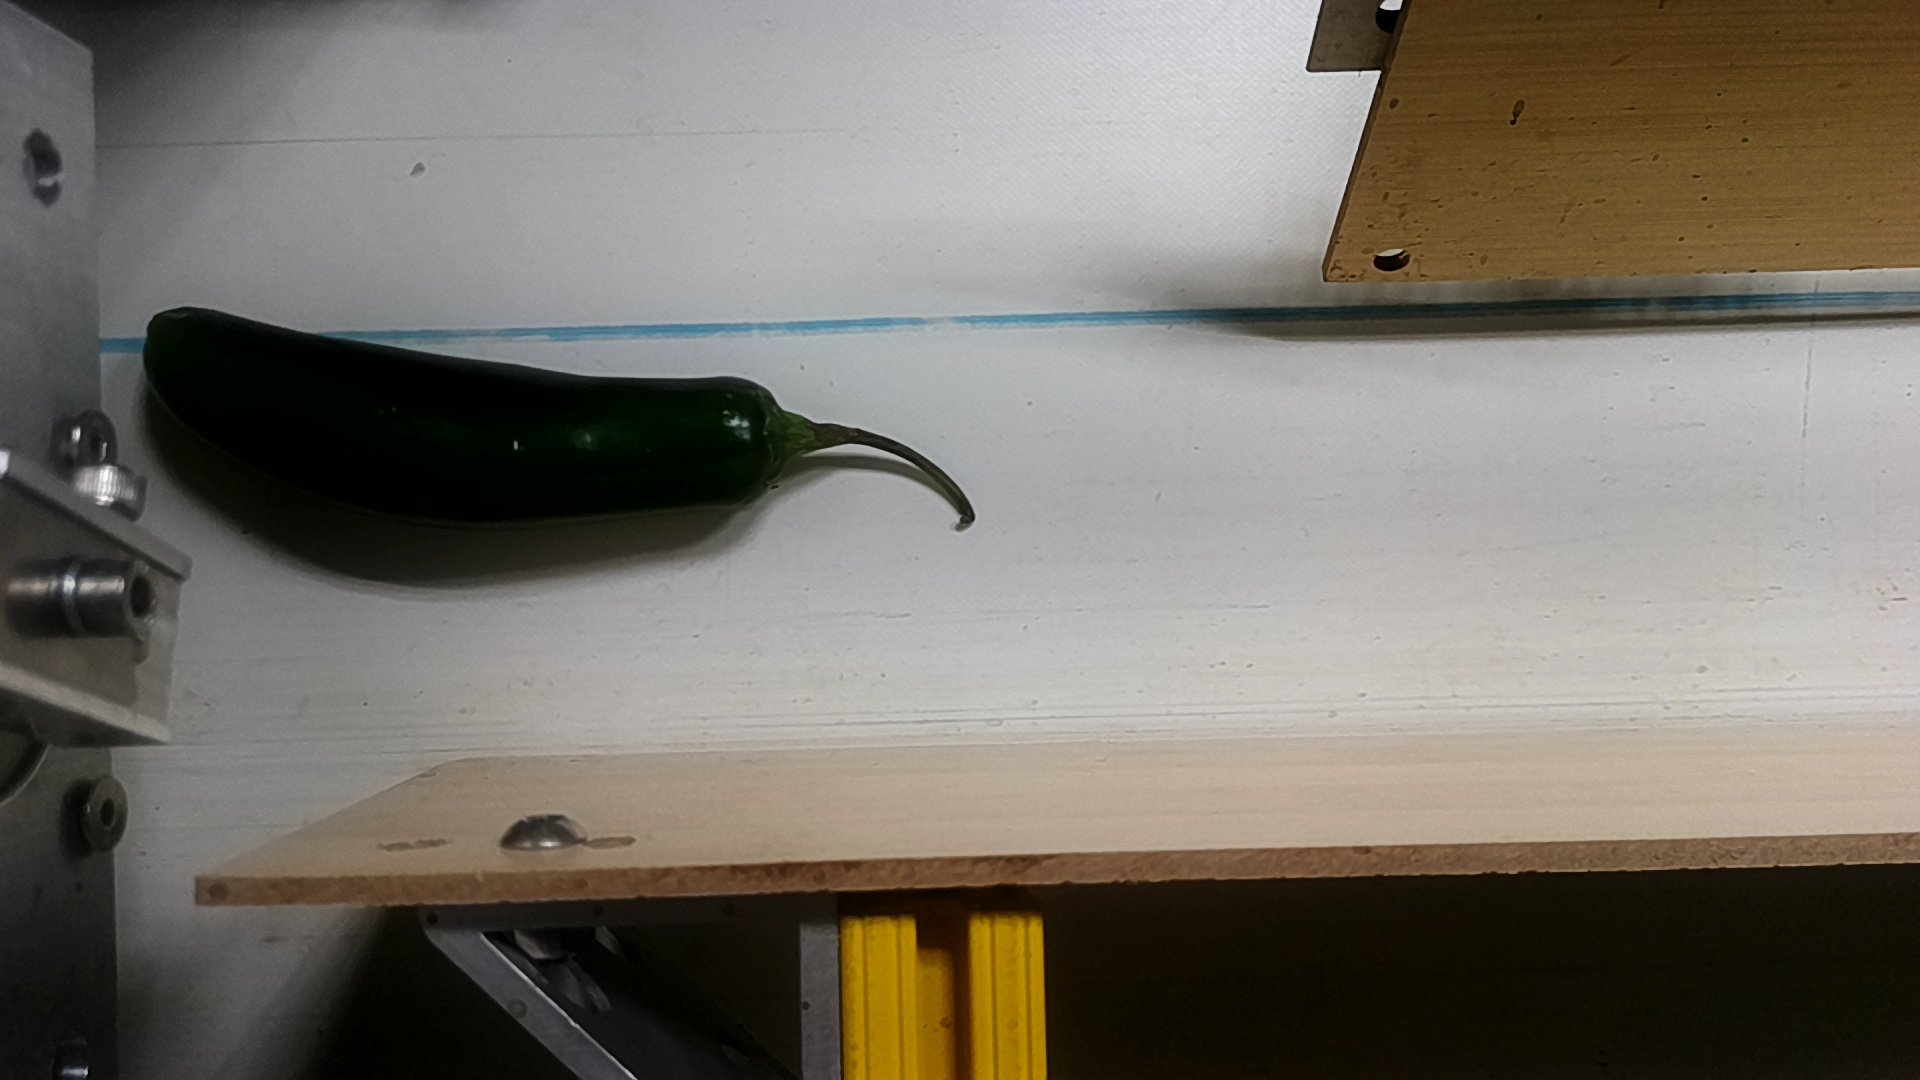Cut Point: (694, 369, 836, 502)
